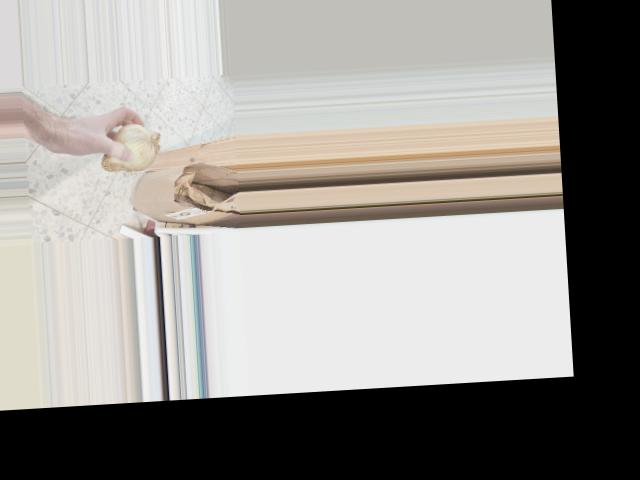onion: (96, 117, 164, 178)
